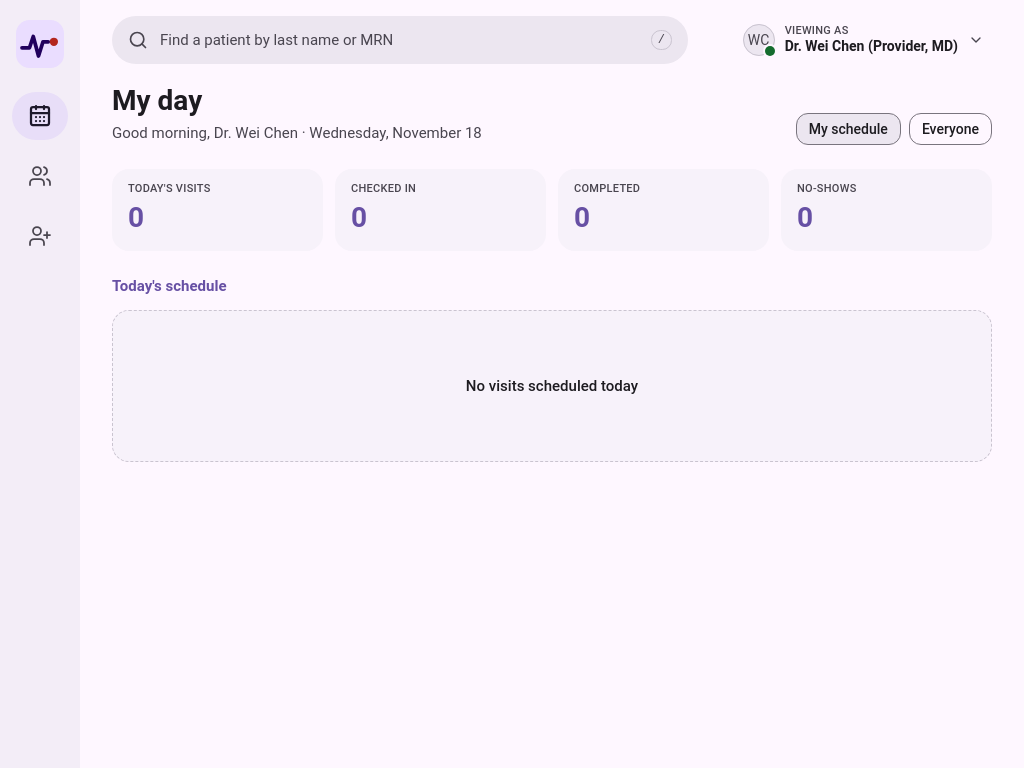
it: app bar search › hands the text to the Patients page when there are more results than fit
Type "osei" into the dropdown labelled "Find a patient". click: coordinates (400, 40)
box: x1=112 y1=16 x2=688 y2=64
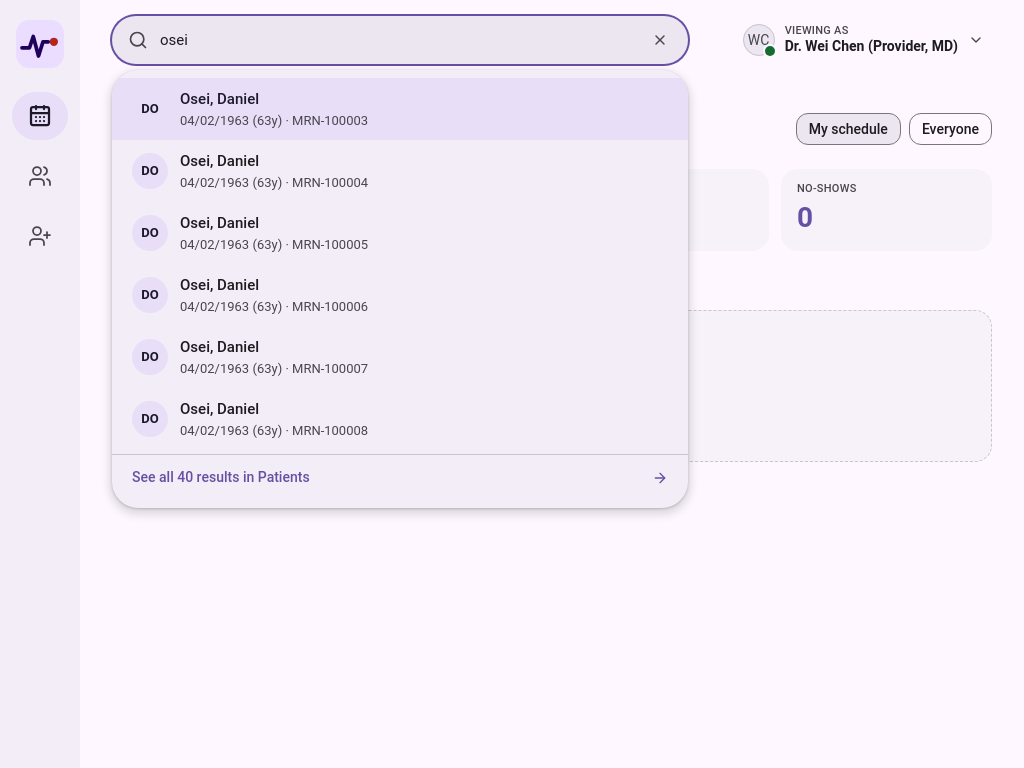
Click the option "See all 40 results in Patients". click: coordinates (155, 477)
box: x1=112 y1=454 x2=688 y2=500
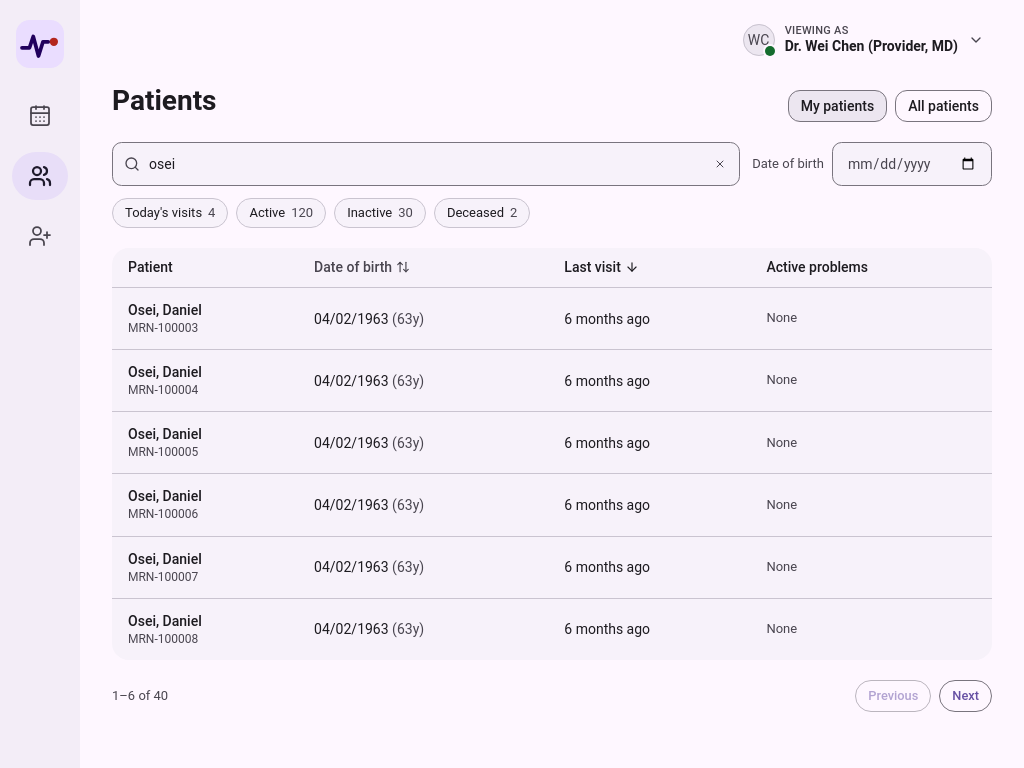
Expected: the dropdown labelled "Find a patient" is not shown
Result: the heading "Patients" is shown at x1=112 y1=80 x2=216 y2=122
Result: the search field named "Search patients" holds "osei" at x1=112 y1=142 x2=740 y2=186
